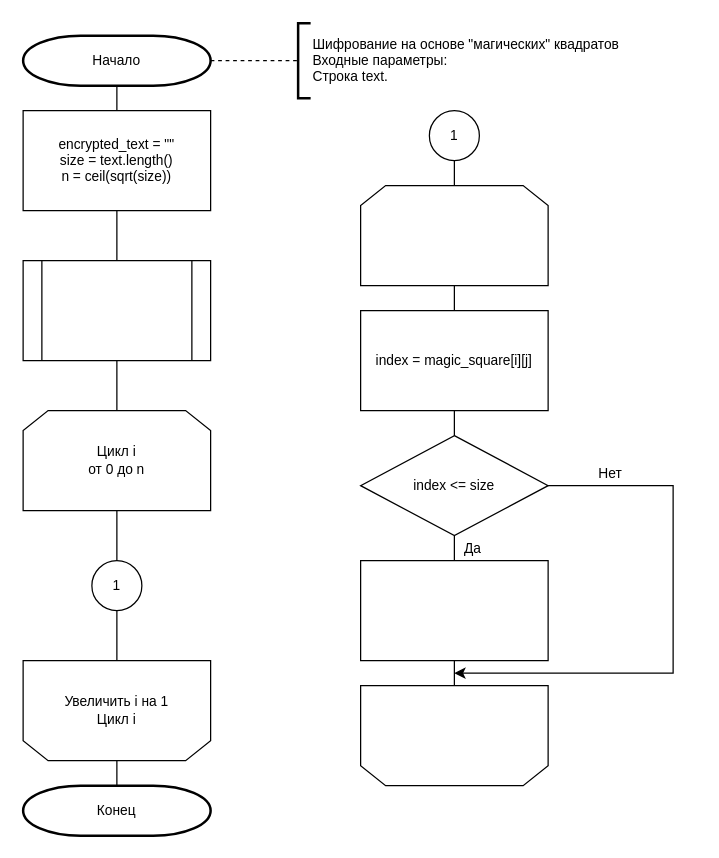
Some shapes in this 719 by 858 pixel diagram are drawn without their labels. The centre of each missing label's shape, as x and y in pixels:
"Cгенерировать магический квадрат magic_square порядка n" goes at (x=116, y=310).
"encrypted_text += text[index-1]" goes at (x=453, y=610).
"Увеличить j на 1 Цикл j" goes at (x=453, y=735).
"Цикл j от 0 до n" goes at (x=453, y=235).
